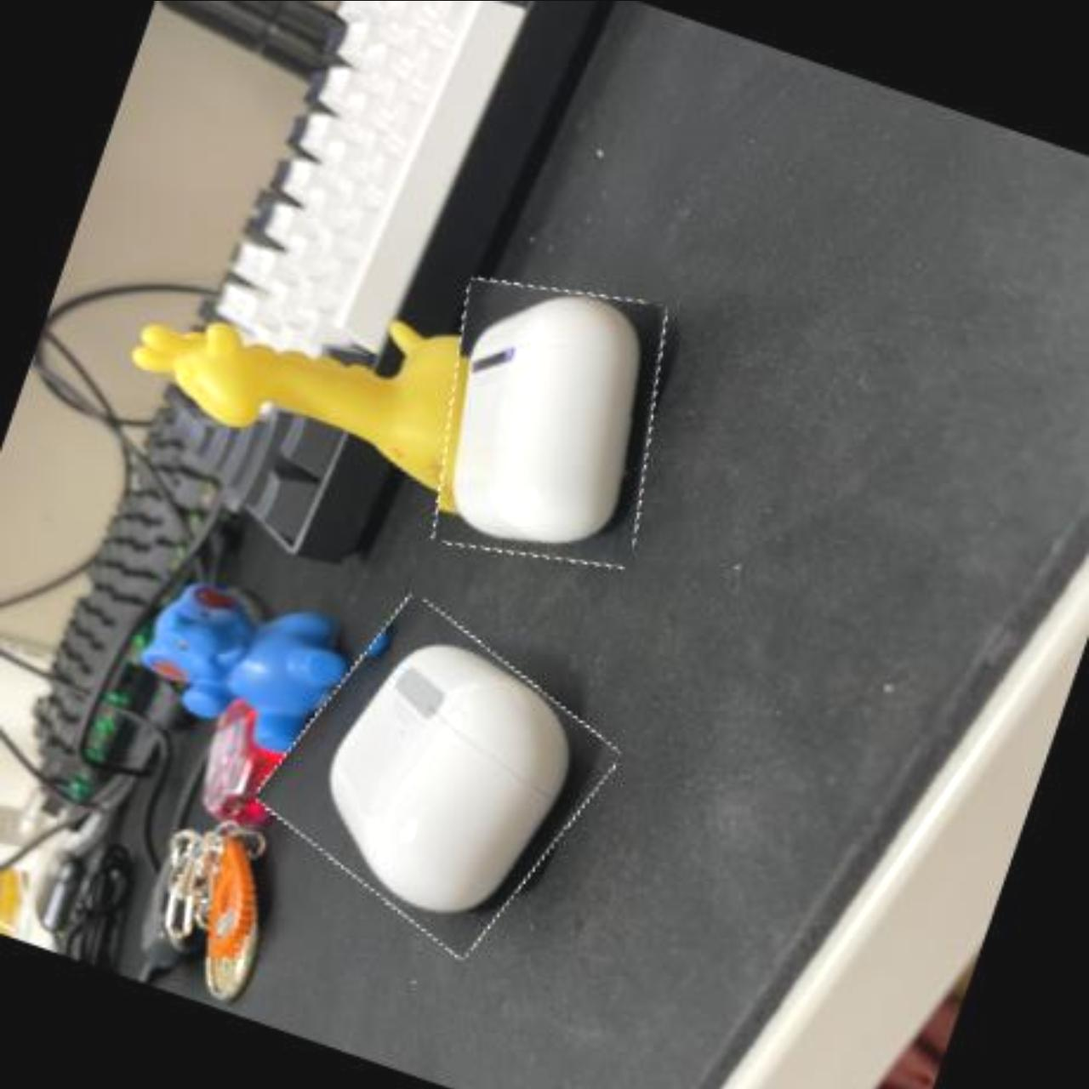AirPods: (249, 587, 627, 966), (401, 253, 701, 589)
